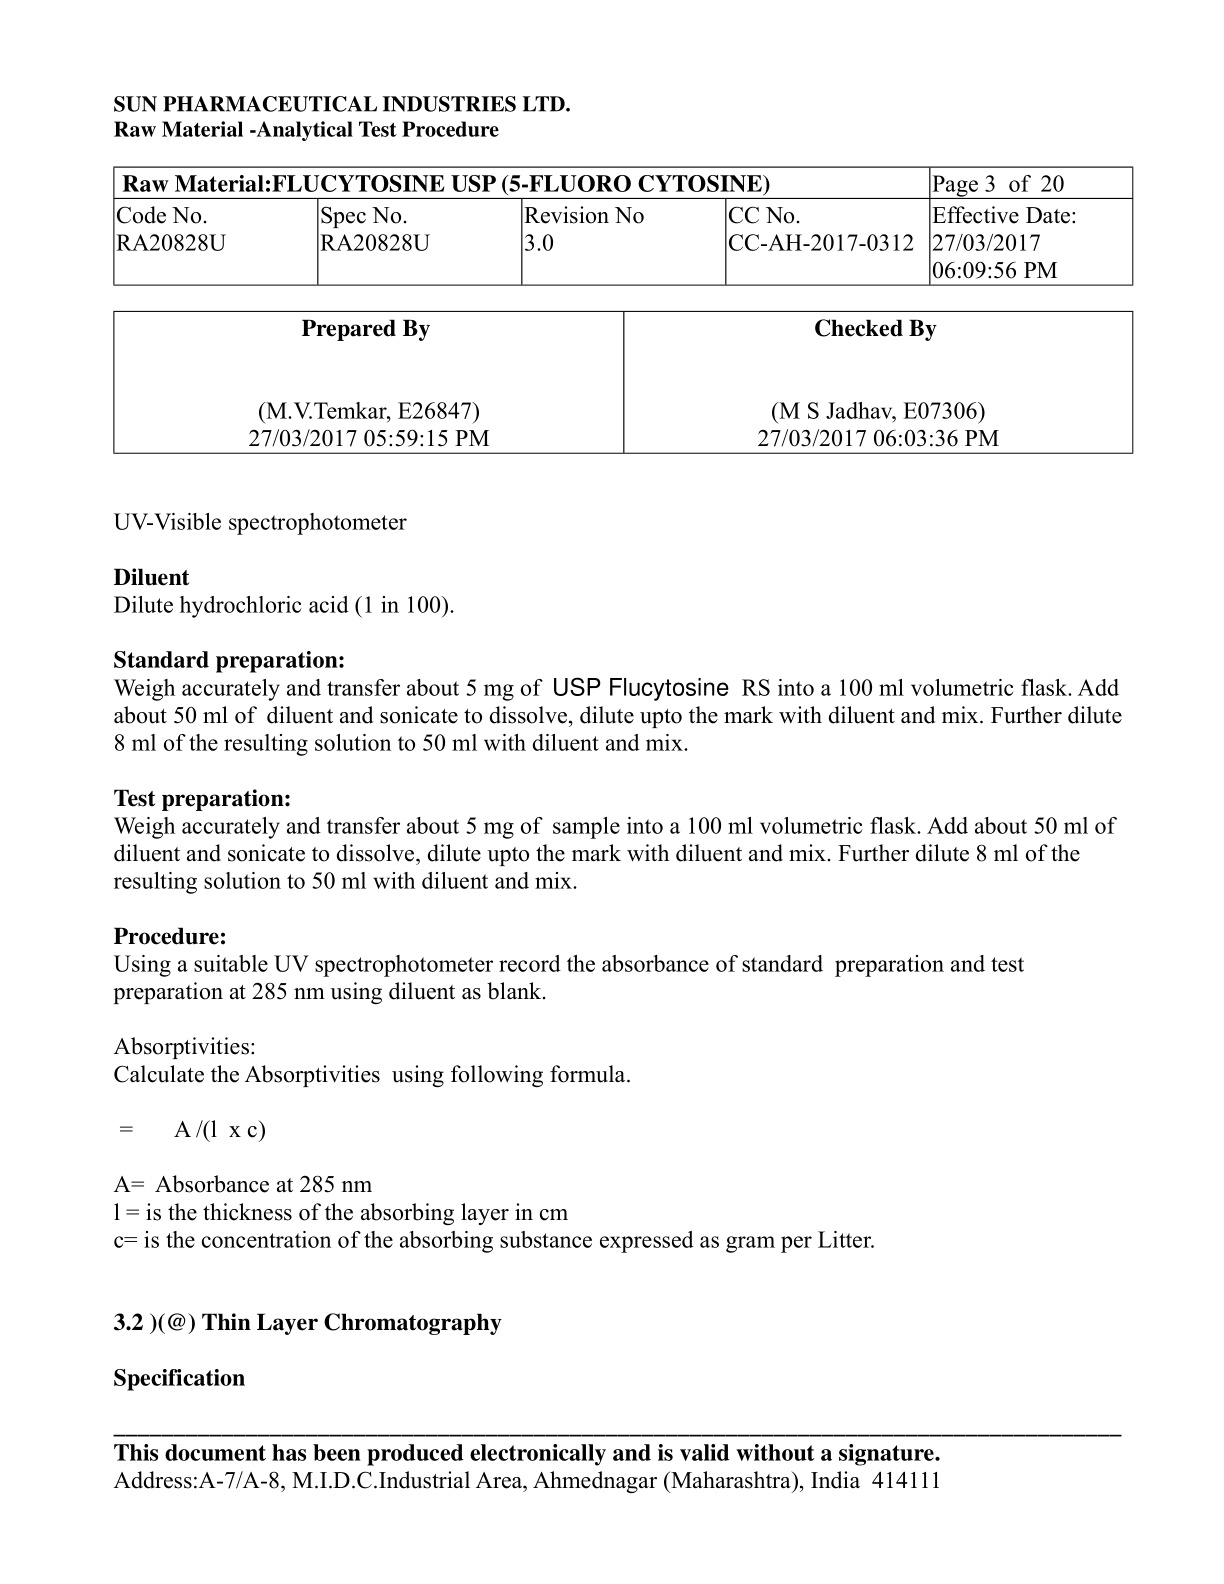full_lined: (112, 310, 1133, 455)
merged_cells: (112, 165, 1133, 287)
